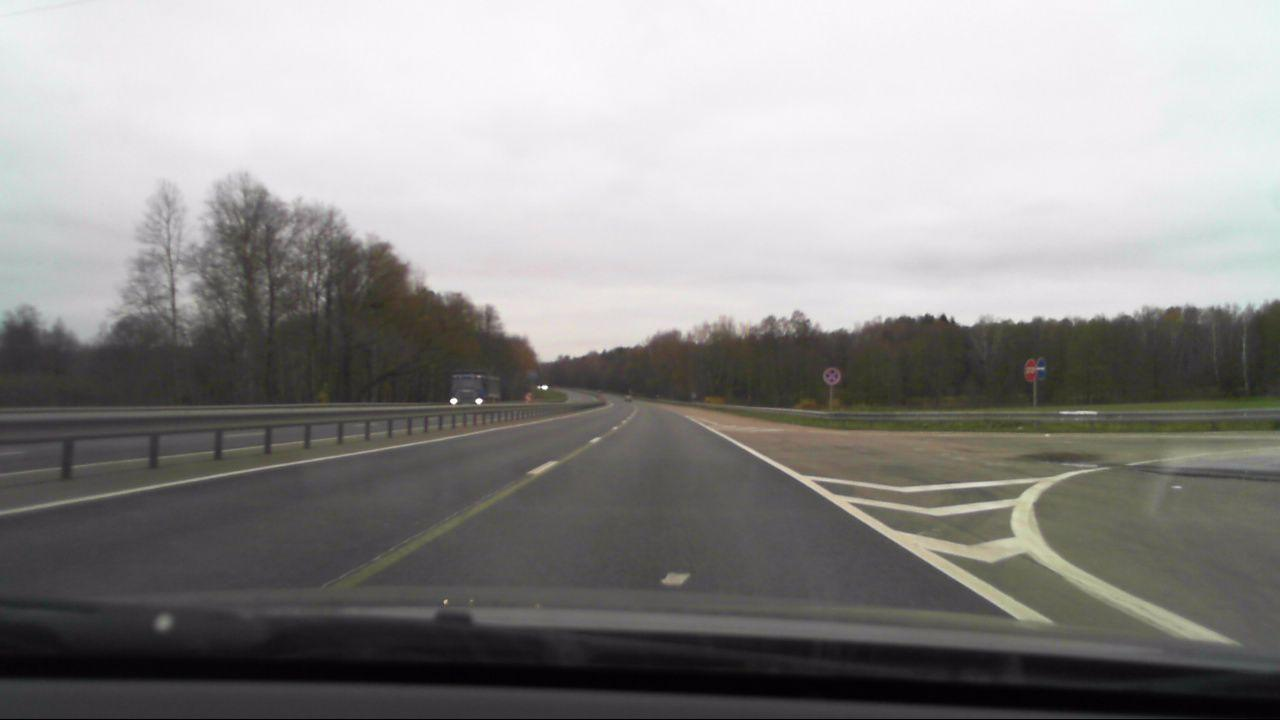2_5: (1025, 359, 1036, 380)
3_27: (822, 366, 843, 387)
4_2_1: (1036, 357, 1048, 379)
